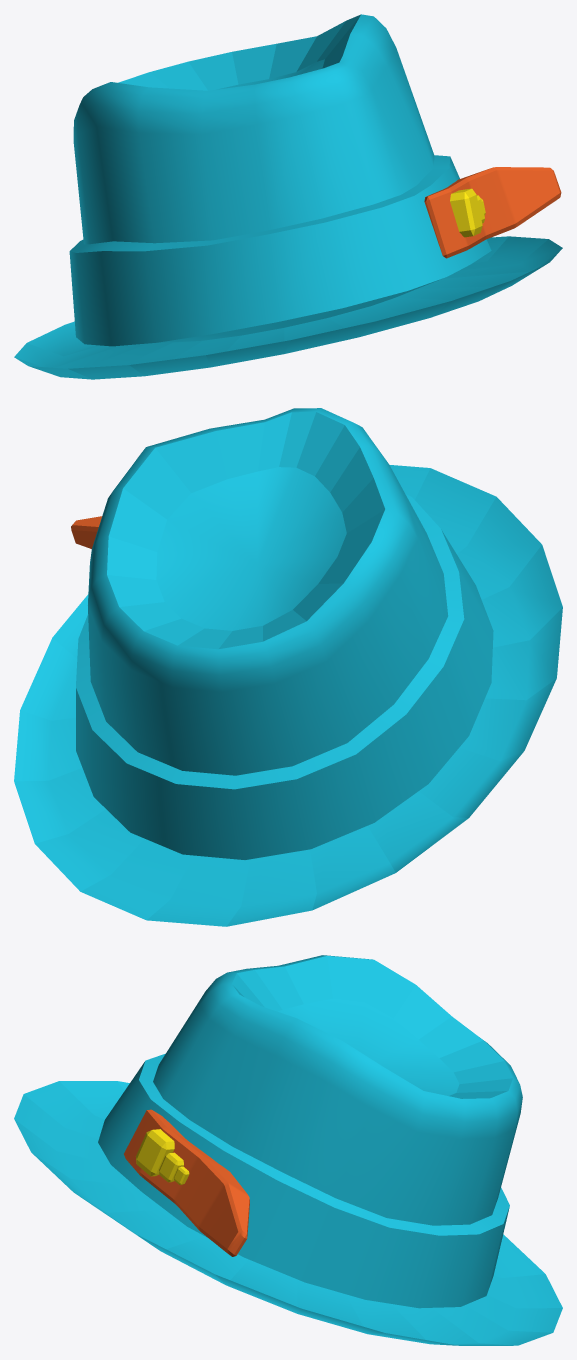
Rendered from hat3.fbx.
3 renders of one model, top to bottom at view 1: azimuth 30°, elevation 25°; view 2: azimuth 150°, elevation 25°; view 3: azimuth 270°, elevation 25°, orthographic. The views are drawn at different scales.
Parts seen in each view (by area): view 1: Hat1; view 2: Hat1; view 3: Hat1.
Part boxes in pixels (left/top/right/bottom): Hat1: left=14, top=14, right=562, bottom=379; Hat1: left=14, top=408, right=562, bottom=926; Hat1: left=14, top=955, right=562, bottom=1345.
Bounding box in the file's own units: 21.99 × 16.41 × 24.69.
